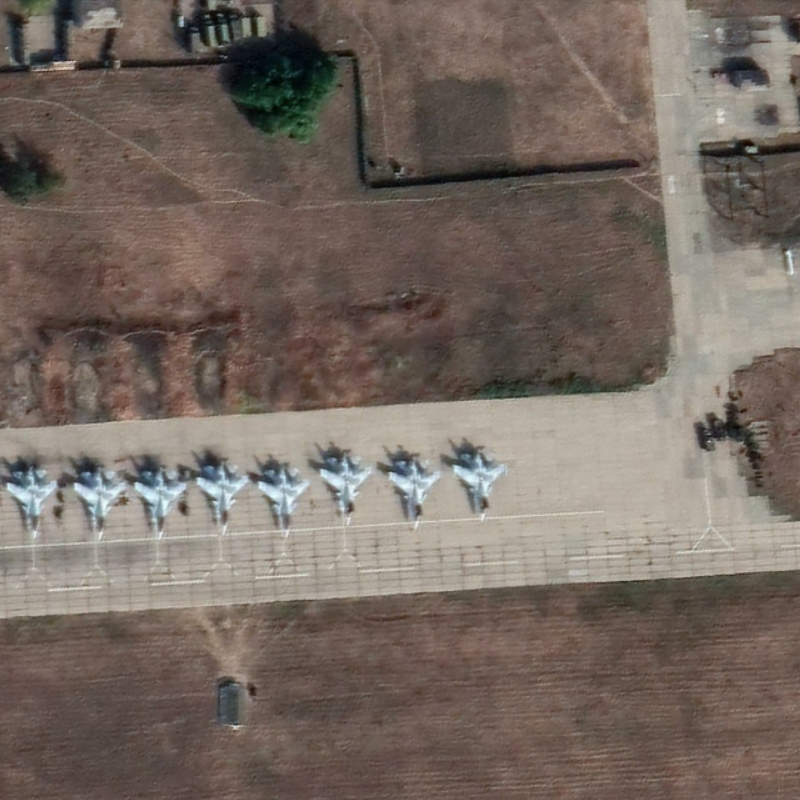A19: (194, 457, 253, 540), (384, 453, 444, 534), (316, 448, 377, 527), (449, 448, 511, 525), (71, 462, 128, 544), (4, 462, 61, 543), (131, 463, 190, 541), (255, 462, 312, 541)
